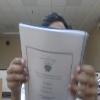notebook: (18, 22, 89, 99)
